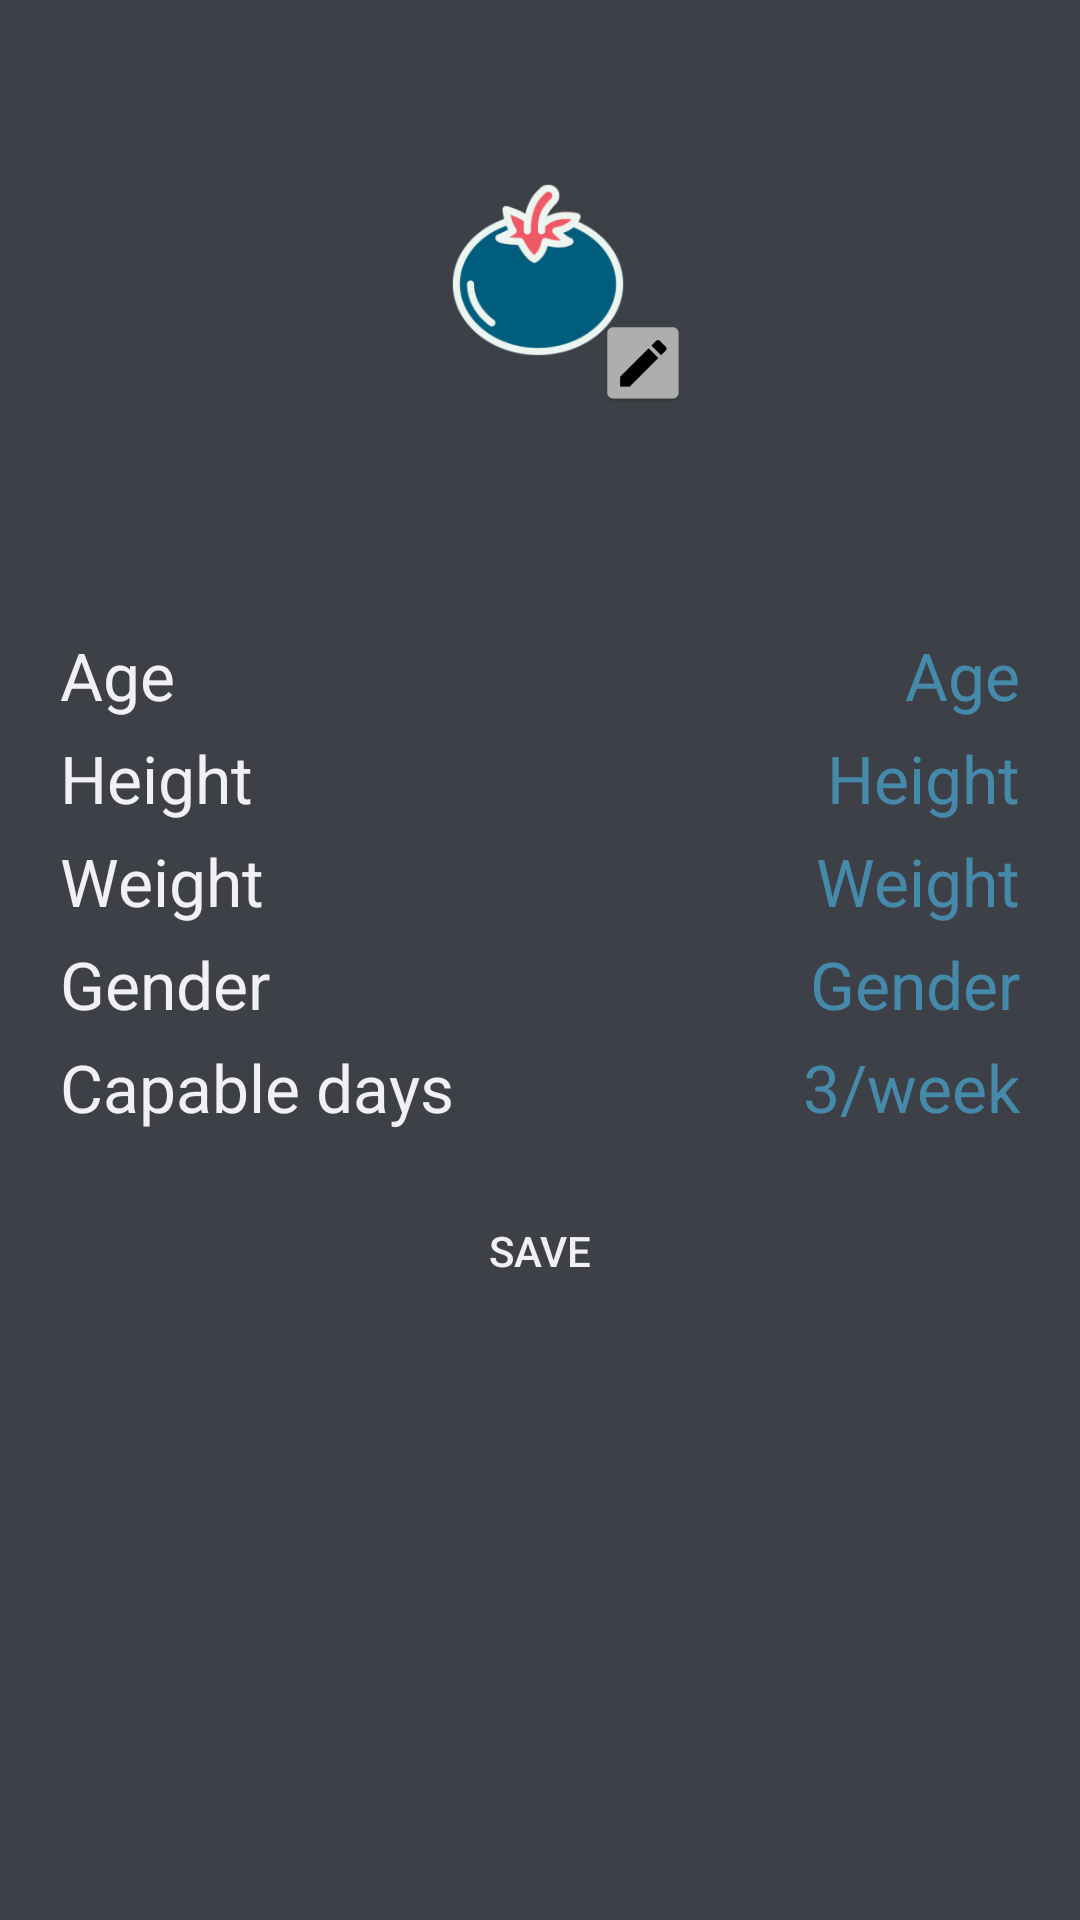

Screen size 1080 x 1920. Icon name, then its center in pixels as (x=x, y=y):
editpen: (x=643, y=363)
